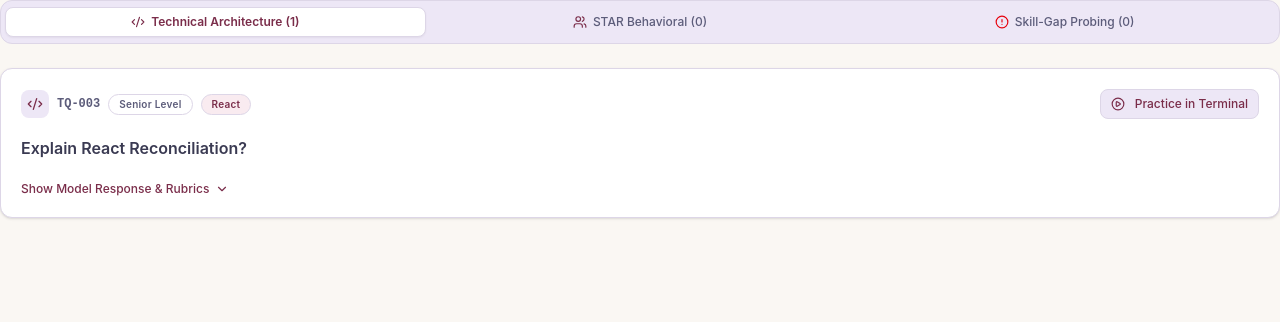
QuestionBank Source Badges › toggles sample answer visibility when clicking show/hide model response
Check: the text "Virtual DOM diffing algorithm" is not shown
What coordinates should you click on to do the following:
click the button "Show Model Response & Rubrics"
I would click on:
 (125, 189)
Its box is [21,181,229,197].
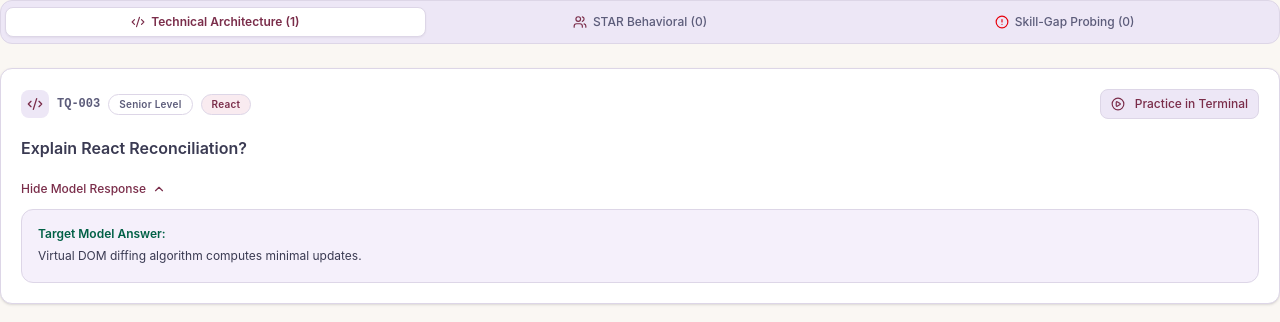
Check: the text "Virtual DOM diffing algorithm computes minimal updates." is shown, box [38,248,362,263]
